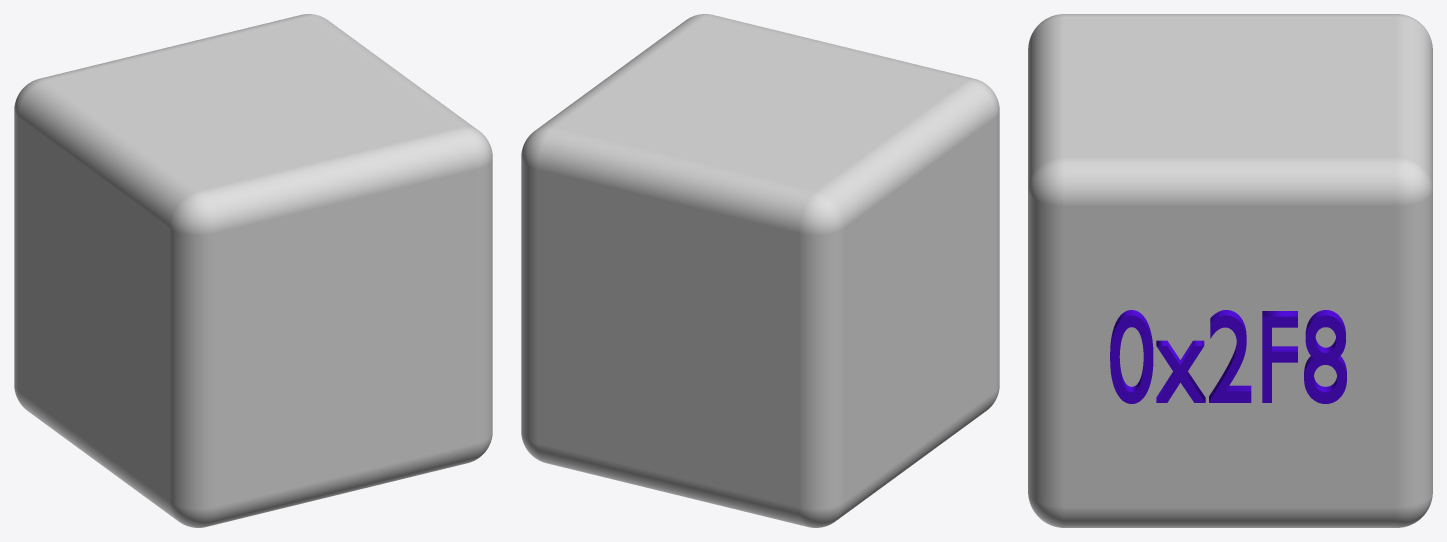
The model's file is Instr23.fbx.
3 views of the same model, side by side, from view 1: azimuth 30°, elevation 25°; view 2: azimuth 150°, elevation 25°; view 3: azimuth 270°, elevation 25° (orthographic). The views are drawn at different scales.
Parts seen in each view (by area): view 1: Cube; view 2: Cube; view 3: Cube, Text.
Boxes of the visible parts, bbox=[...] form: Cube: bbox=[14, 14, 492, 527]; Cube: bbox=[521, 14, 999, 527]; Cube: bbox=[1028, 14, 1432, 527]; Text: bbox=[1110, 310, 1346, 403].
Bounding box in the file's own units: 69.29 × 67.15 × 67.15.
